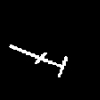double_crochet: (9, 45, 66, 76)
